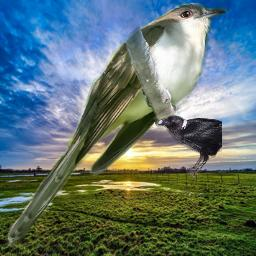Crow: (156, 115, 222, 180)
Cuckoo: (3, 1, 228, 252)
